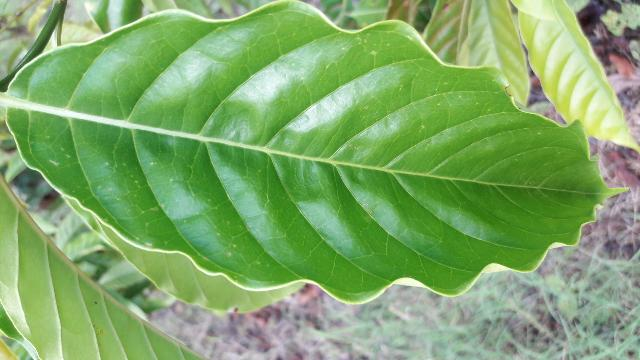healthy: (3, 0, 628, 304)
